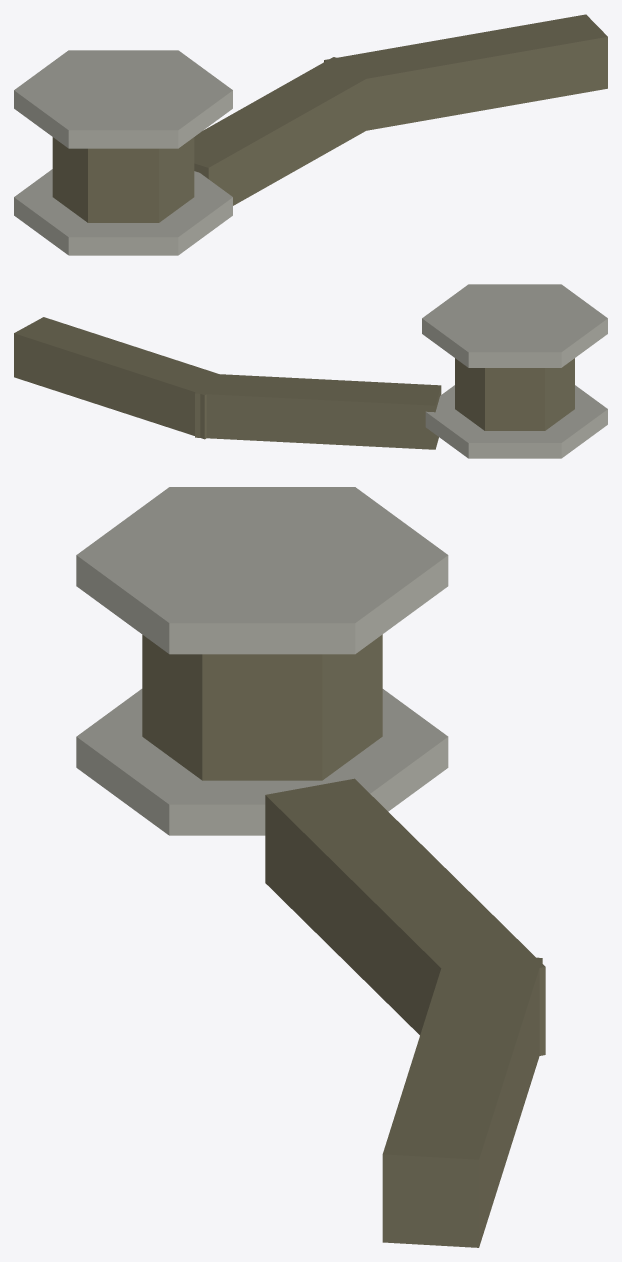
Rendered from SM_Carrete_v3_Tumbado_LOD1.fbx.
The picture shows the model from 3 angles, top to bottom: view 1: azimuth 30°, elevation 25°; view 2: azimuth 150°, elevation 25°; view 3: azimuth 270°, elevation 25°; orthographic projection. The views are drawn at different scales.
Parts seen in each view (by area): view 1: SM_farp_betera_v13_LOD1; view 2: SM_farp_betera_v13_LOD1; view 3: SM_farp_betera_v13_LOD1.
Part boxes in pixels (left/top/right/bottom): SM_farp_betera_v13_LOD1: left=14, top=14, right=607, bottom=255; SM_farp_betera_v13_LOD1: left=14, top=284, right=607, bottom=458; SM_farp_betera_v13_LOD1: left=76, top=487, right=545, bottom=1247.
Size of the model in its own units: 4.17 by 0.99 by 1.64.
